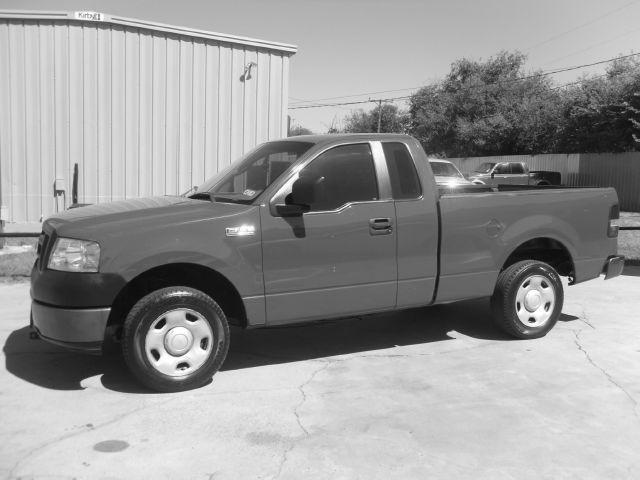car: (27, 129, 627, 395)
